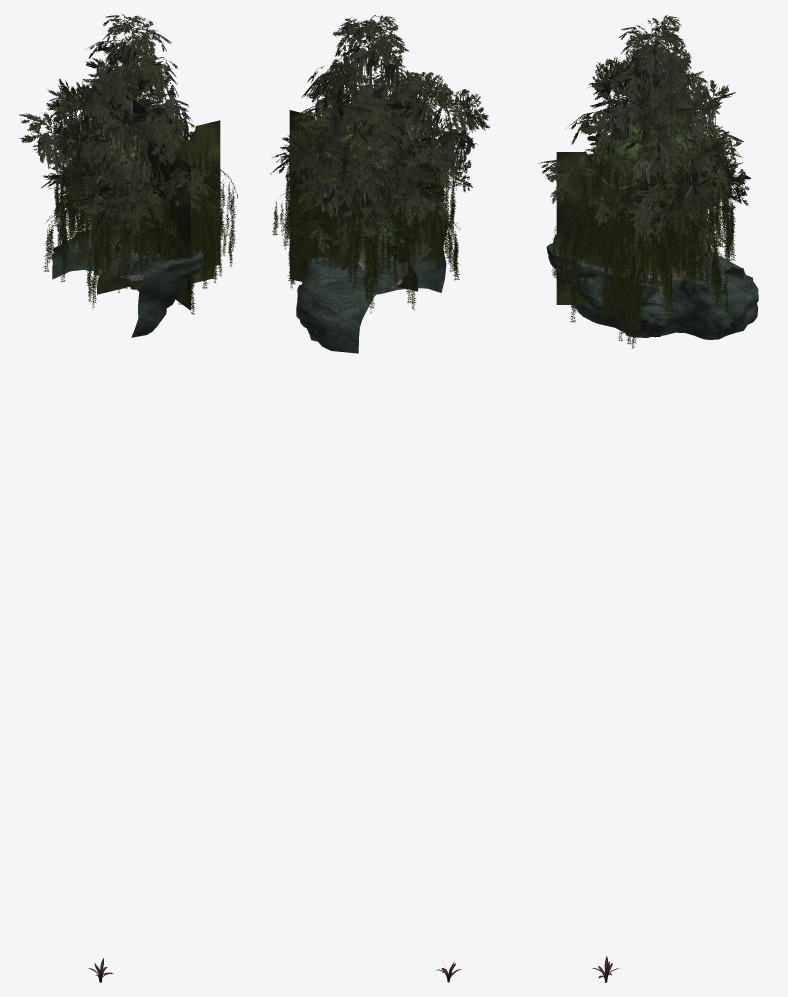
File: flora-province-v1.glb
The picture shows the model from 3 angles, left to right: view 1: azimuth 30°, elevation 25°; view 2: azimuth 150°, elevation 25°; view 3: azimuth 270°, elevation 25°; orthographic projection. The views are drawn at different scales.
Visible parts, largest first — view 1: cypress1, ReachTree02:3_1, cypress3, TreeAspen01_LOD_FLAT:0.001, ReachTree02:3_1.001, RockCliff01:1, cypress3_3, cypress1_2, cypress3_4, cedartree3_2, cedartree3_LOD_FLAT:0, RockCliff01:0 (+2 smaller); view 2: cypress1, ReachTree02:3_1, cypress3, RockCliff01:1, cypress3_3, ReachTree02:3_1.001, cypress3_4, cedartree3_2, cypress1_2, ReachCliffTree01:0 - L1_ReachCliffTree01:0_1.001, TreeAspen01_LOD_FLAT:0.001, TreeAspen01_LOD_FLAT:0.002 (+4 smaller); view 3: cypress1, ReachTree02:3_1, RockCliff01:1, ReachTree02:3_1.001, cypress3, TreeAspen01_LOD_FLAT:0.001, cypress3_3, cypress1_2, ReachCliffTree01:0 - L1_ReachCliffTree01:0_1.001, cedartree3_2, RockCliff01:3, cypress3_4 (+2 smaller).
Boxes of the visible parts, x1,y1,x2,y2 form: cypress1: [54, 14, 223, 237]; ReachTree02:3_1: [43, 116, 222, 314]; cypress3: [19, 58, 193, 220]; TreeAspen01_LOD_FLAT:0.001: [97, 120, 220, 310]; ReachTree02:3_1.001: [77, 150, 237, 304]; RockCliff01:1: [51, 230, 204, 337]; cypress3_3: [32, 73, 188, 215]; cypress1_2: [95, 41, 197, 190]; cypress3_4: [37, 76, 130, 216]; cedartree3_2: [49, 129, 200, 231]; cedartree3_LOD_FLAT:0: [60, 133, 175, 217]; RockCliff01:0: [71, 251, 135, 275]; cypress1: [291, 15, 458, 256]; ReachTree02:3_1: [286, 103, 460, 313]; cypress3: [270, 73, 489, 237]; RockCliff01:1: [296, 211, 448, 353]; cypress3_3: [280, 79, 488, 213]; ReachTree02:3_1.001: [272, 136, 456, 265]; cypress3_4: [293, 104, 471, 219]; cedartree3_2: [271, 134, 439, 221]; cypress1_2: [315, 47, 423, 206]; ReachCliffTree01:0 - L1_ReachCliffTree01:0_1.001: [308, 130, 401, 274]; TreeAspen01_LOD_FLAT:0.001: [289, 110, 418, 291]; TreeAspen01_LOD_FLAT:0.002: [326, 118, 409, 270]; cypress1: [538, 15, 743, 267]; ReachTree02:3_1: [569, 148, 736, 348]; RockCliff01:1: [548, 235, 758, 339]; ReachTree02:3_1.001: [552, 164, 721, 344]; cypress3: [586, 50, 746, 222]; TreeAspen01_LOD_FLAT:0.001: [556, 152, 694, 305]; cypress3_3: [588, 56, 749, 205]; cypress1_2: [592, 51, 716, 244]; ReachCliffTree01:0 - L1_ReachCliffTree01:0_1.001: [623, 142, 704, 292]; cedartree3_2: [582, 125, 728, 239]; RockCliff01:3: [546, 246, 753, 337]; cypress3_4: [611, 81, 730, 219].
Size of what is drawn, in the model's own units: 25.96 by 117 by 25.63.
143 materials, 143 textured.
